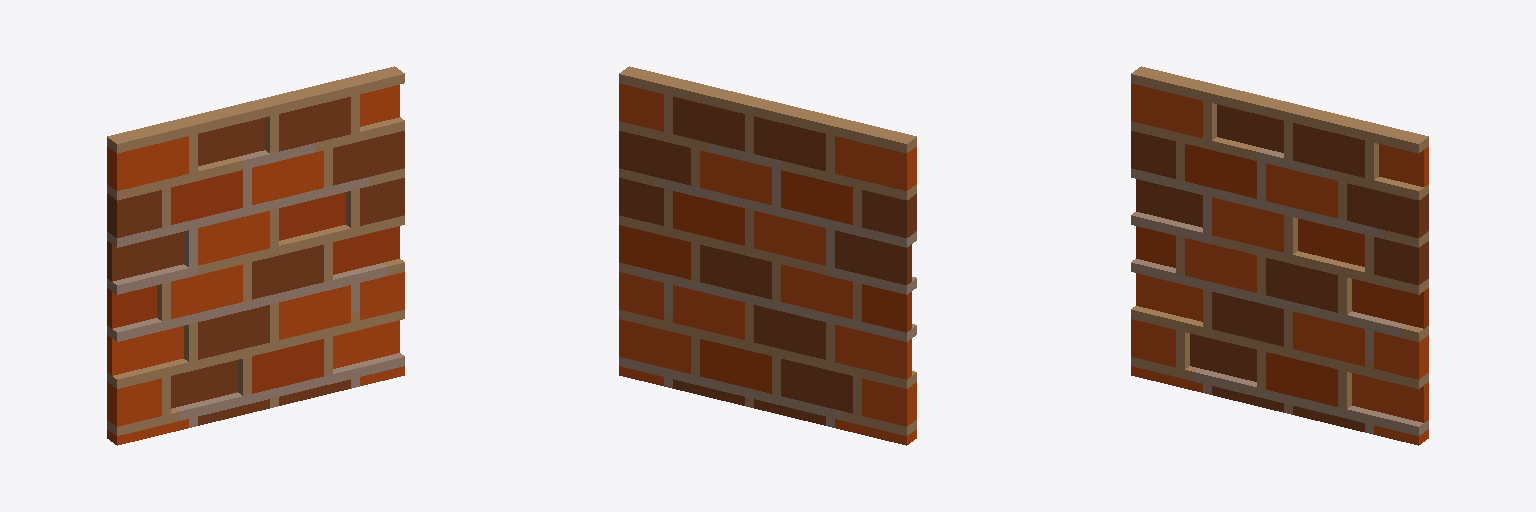
The picture shows the model from 3 angles: view 1: azimuth 30°, elevation 25°; view 2: azimuth 150°, elevation 25°; view 3: azimuth 330°, elevation 25°; orthographic projection.
Visible parts, largest first — view 1: object 1; view 2: object 1; view 3: object 1.
Part boxes in pixels (left/top/right/bottom): object 1: left=107, top=66, right=404, bottom=445; object 1: left=619, top=66, right=916, bottom=445; object 1: left=1131, top=66, right=1428, bottom=445.
Bounding box in the file's own units: 3.2 × 3.2 × 0.2.
Materials: 1 (1 with a texture image).